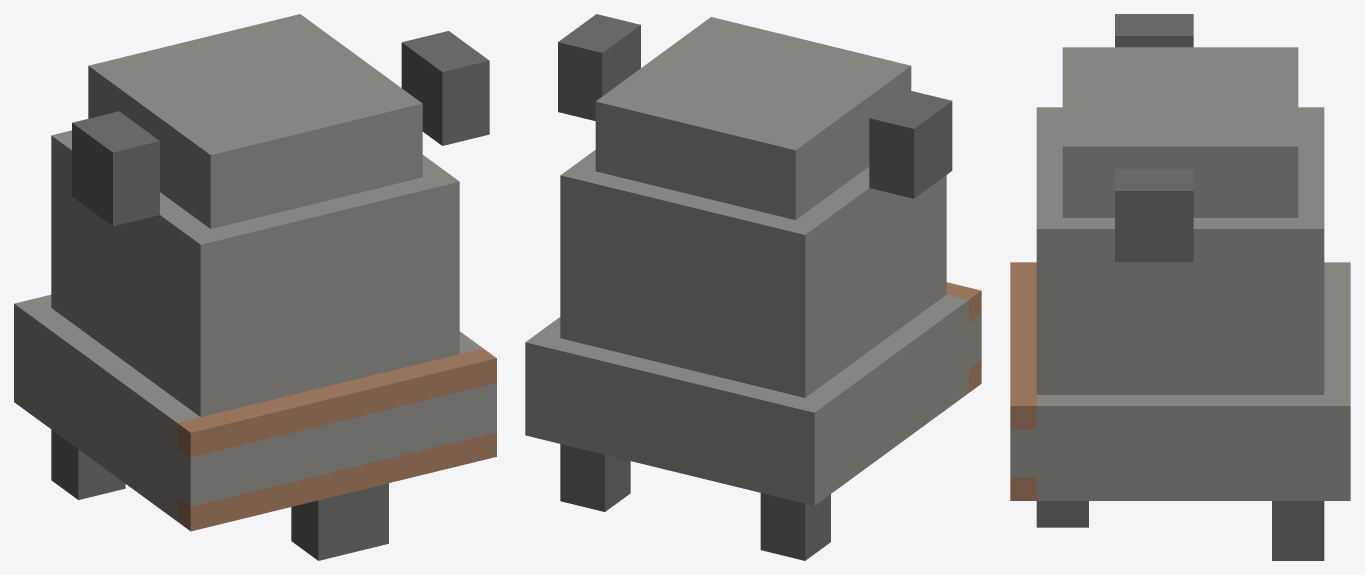
The model's file is caldero_oxidado_01.glb.
3 renders of one model, left to right at view 1: azimuth 30°, elevation 25°; view 2: azimuth 150°, elevation 25°; view 3: azimuth 270°, elevation 25°, orthographic. The views are drawn at different scales.
Parts seen in each view (by area): view 1: caldero_oxidado; view 2: caldero_oxidado; view 3: caldero_oxidado.
Part boxes in pixels (<box>): caldero_oxidado: <box>14,14,496,560</box>; caldero_oxidado: <box>525,14,981,560</box>; caldero_oxidado: <box>1010,14,1350,560</box>.
Size of the model in its own units: 1.23 by 1.31 by 1.
